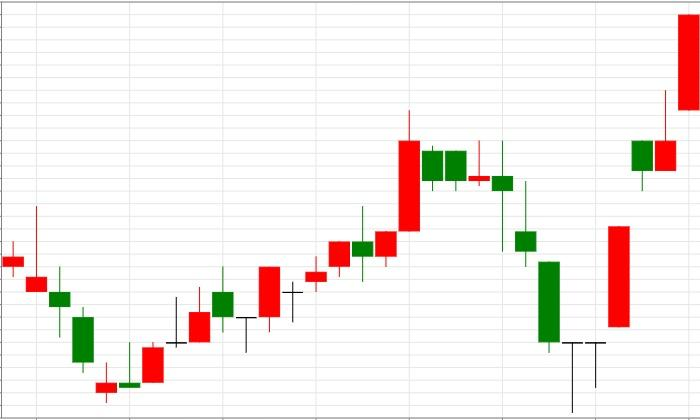morning_star_rise: (422, 139, 630, 413)
